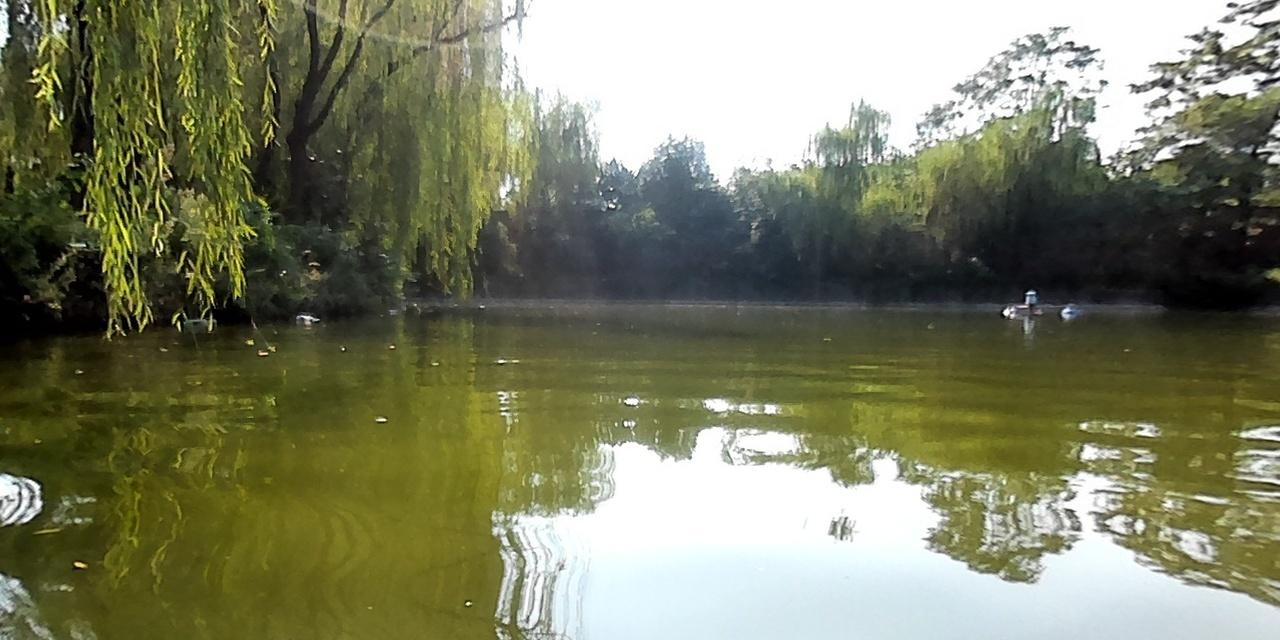bottle: (295, 313, 318, 325)
